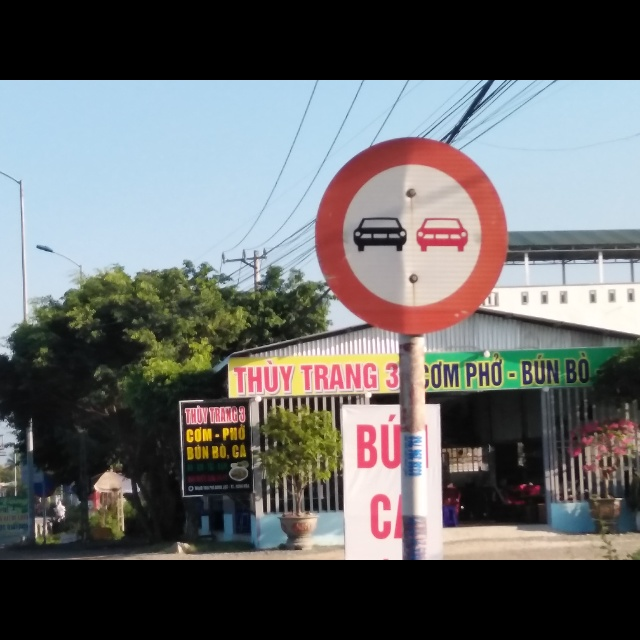Cấm vượt: (312, 138, 511, 337)
